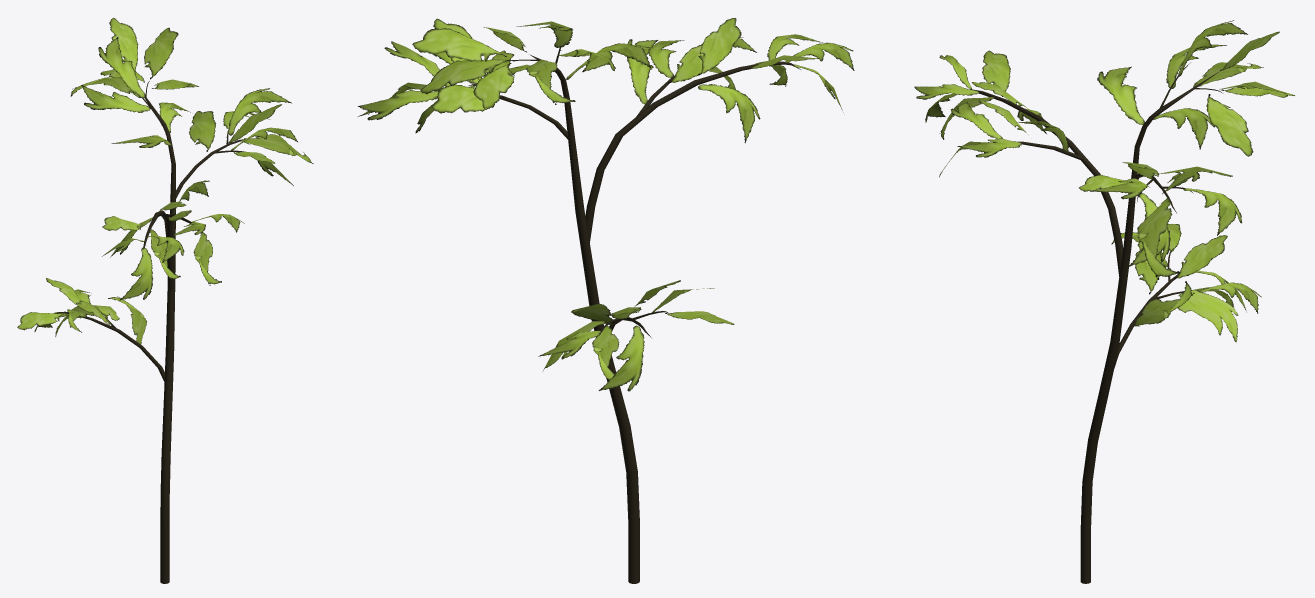
Rendered from SaplingVar1.fbx.
The picture shows the model from 3 angles, left to right: view 1: azimuth 30°, elevation 25°; view 2: azimuth 150°, elevation 25°; view 3: azimuth 270°, elevation 25°; orthographic projection. The views are drawn at different scales.
Visible parts, largest first — view 1: LeavesVar1, TrunkVar1; view 2: LeavesVar1, TrunkVar1; view 3: LeavesVar1, TrunkVar1.
Part boxes in pixels (left/top/right/bottom): LeavesVar1: left=17, top=18, right=313, bottom=344; TrunkVar1: left=55, top=81, right=245, bottom=583; LeavesVar1: left=358, top=18, right=854, bottom=391; TrunkVar1: left=468, top=45, right=800, bottom=583; LeavesVar1: left=914, top=20, right=1294, bottom=342; TrunkVar1: left=970, top=62, right=1223, bottom=583.
Bounding box in the file's own units: 1.66 × 2.5 × 1.59.
2 materials, 1 textured.
